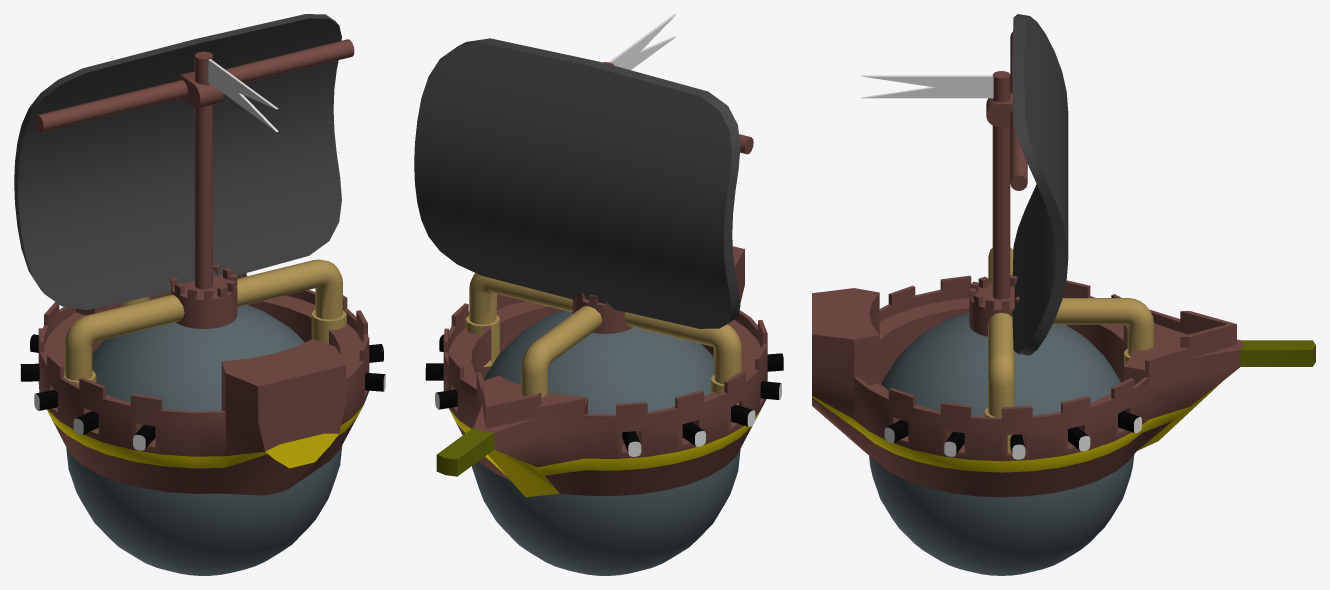
File: Machine3.fbx
The picture shows the model from 3 angles, left to right: view 1: azimuth 30°, elevation 25°; view 2: azimuth 150°, elevation 25°; view 3: azimuth 270°, elevation 25°; orthographic projection. The views are drawn at different scales.
Parts seen in each view (by area): view 1: Machine3, Ball3; view 2: Machine3, Ball3; view 3: Machine3, Ball3.
Boxes of the visible parts, x1,y1,x2,y2 form: Machine3: (14,14,385,495); Ball3: (66,305,342,575); Machine3: (414,14,783,497); Ball3: (472,310,740,575); Machine3: (812,14,1315,497); Ball3: (869,313,1134,575).
Size of the model in its own units: 265 by 409 by 376.
